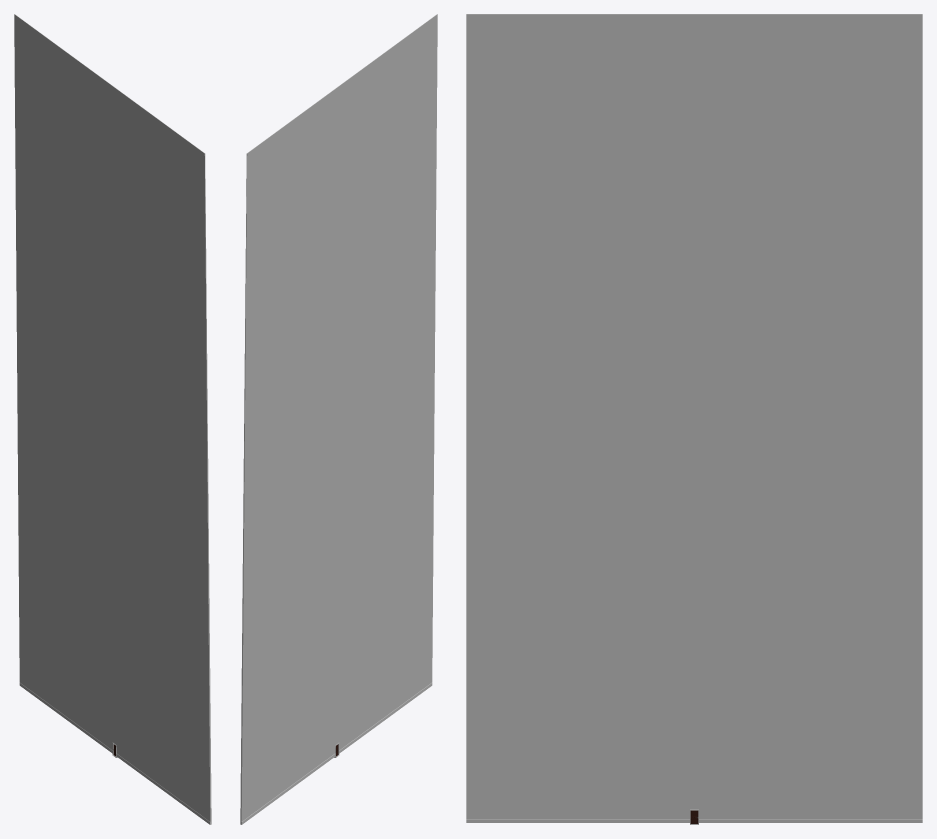
Rendered from EndDoor.fbx.
The picture shows the model from 3 angles, left to right: view 1: azimuth 30°, elevation 25°; view 2: azimuth 150°, elevation 25°; view 3: azimuth 270°, elevation 25°; orthographic projection. The views are drawn at different scales.
Parts seen in each view (by area): view 1: walls; view 2: walls; view 3: walls.
Part boxes in pixels (x1,y1,x2,y2): walls: (14,14,211,824); walls: (240,14,437,824); walls: (466,14,922,824).
Bounding box in the file's own units: 277 × 24003 × 12301.
